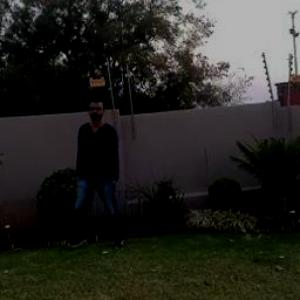follow: (77, 95, 132, 261)
